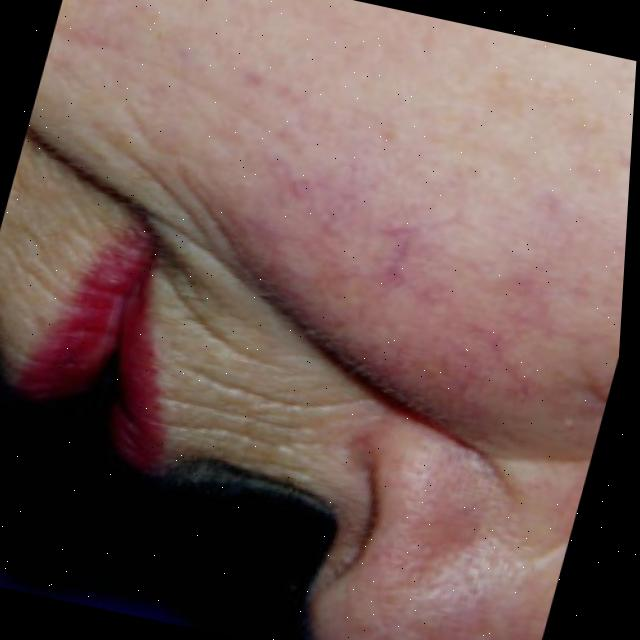Rosacea: (158, 85, 601, 410)
